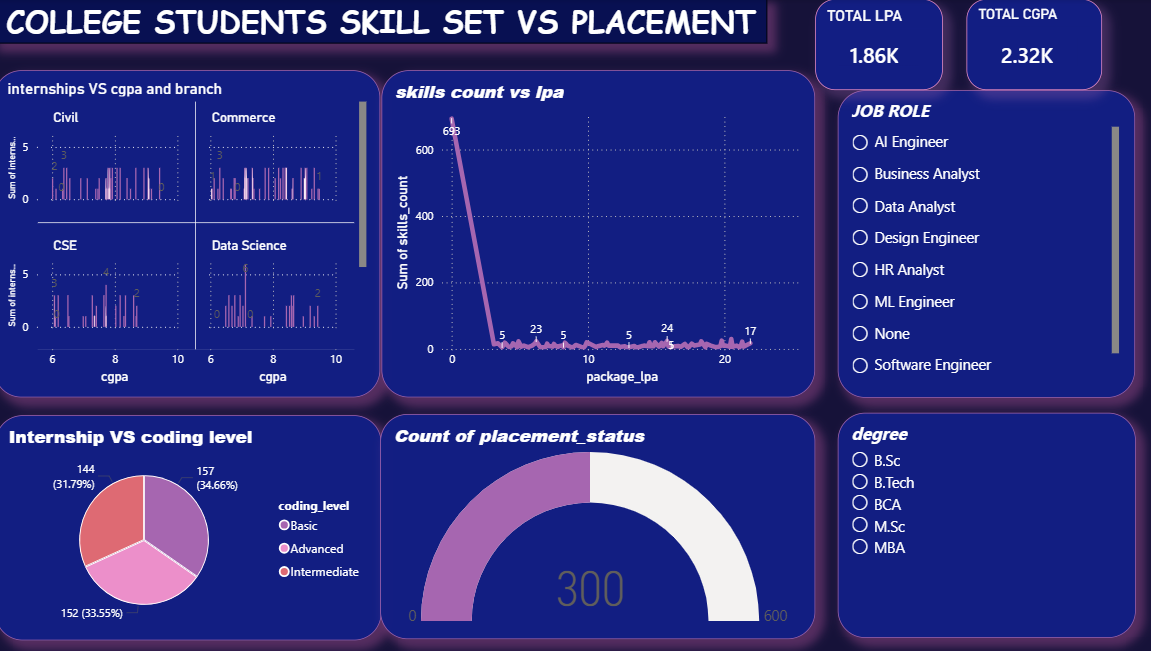

The dashboard page shown, as its layout file describes it:
{"tool":"powerbi","page":{"name":"Page 2","canvas":[1280,720],"ordinal":0},"visuals":[{"type":"textbox","title":"COLLEGE STUDENTS SKILL SET VS PLACEMENT","box":[0,0,848.6,48.6],"z":0},{"type":"columnChart","title":" internships VS cgpa and branch","fields":{"Category":["Sheet1.cgpa"],"Y":["Sum(Sheet1.internships)"],"Rows":["Sheet1.branch"]},"box":[0,78.2,424,359.5],"z":1000},{"type":"pieChart","title":"Internship VS coding level","fields":{"Category":["Sheet1.coding_level"],"Y":["Sum(Sheet1.internships)"]},"box":[1.4,457.1,424.3,247.1],"z":2000},{"type":"lineChart","title":"skills count vs lpa","fields":{"Category":["Sheet1.package_lpa"],"Y":["Sum(Sheet1.skills_count)"]},"box":[425.4,78.2,476.2,359.5],"z":3000},{"type":"gauge","fields":{"Y":["CountNonNull(Sheet1.placement_status)"]},"box":[424,455.6,477.5,247],"z":4000},{"type":"listSlicer","title":"JOB ROLE","fields":{"Values":["Sheet1.job_role"]},"box":[926.2,100.2,326.6,337.6],"z":5000},{"type":"listSlicer","fields":{"Values":["Sheet1.degree"]},"box":[925.7,454.3,327.1,247.1],"z":6000},{"type":"cardVisual","title":"TOTAL LPA","fields":{"Data":["Sum(Sheet1.package_lpa)"]},"box":[901.4,0,140,100],"z":7000},{"type":"cardVisual","title":"TOTAL CGPA","fields":{"Data":["Sum(Sheet1.cgpa)"]},"box":[1067.1,0,148.6,100],"z":8000}]}

Visuals, with their boxes in screenshot pixels (x1, y1, x2, y2), scaled from the page's 1280x720 canvas onto the 1151x651 screenshot:
"COLLEGE STUDENTS SKILL SET VS PLACEMENT" textbox: {"x1": 0, "y1": 0, "x2": 763, "y2": 44}
" internships VS cgpa and branch" columnChart: {"x1": 0, "y1": 71, "x2": 381, "y2": 396}
"Internship VS coding level" pieChart: {"x1": 1, "y1": 413, "x2": 383, "y2": 637}
"skills count vs lpa" lineChart: {"x1": 383, "y1": 71, "x2": 811, "y2": 396}
gauge - CountNonNull(Sheet1.placement_status): {"x1": 381, "y1": 412, "x2": 811, "y2": 635}
"JOB ROLE" listSlicer: {"x1": 833, "y1": 91, "x2": 1127, "y2": 396}
listSlicer - Sheet1.degree: {"x1": 832, "y1": 411, "x2": 1127, "y2": 634}
"TOTAL LPA" cardVisual: {"x1": 811, "y1": 0, "x2": 936, "y2": 90}
"TOTAL CGPA" cardVisual: {"x1": 960, "y1": 0, "x2": 1093, "y2": 90}
